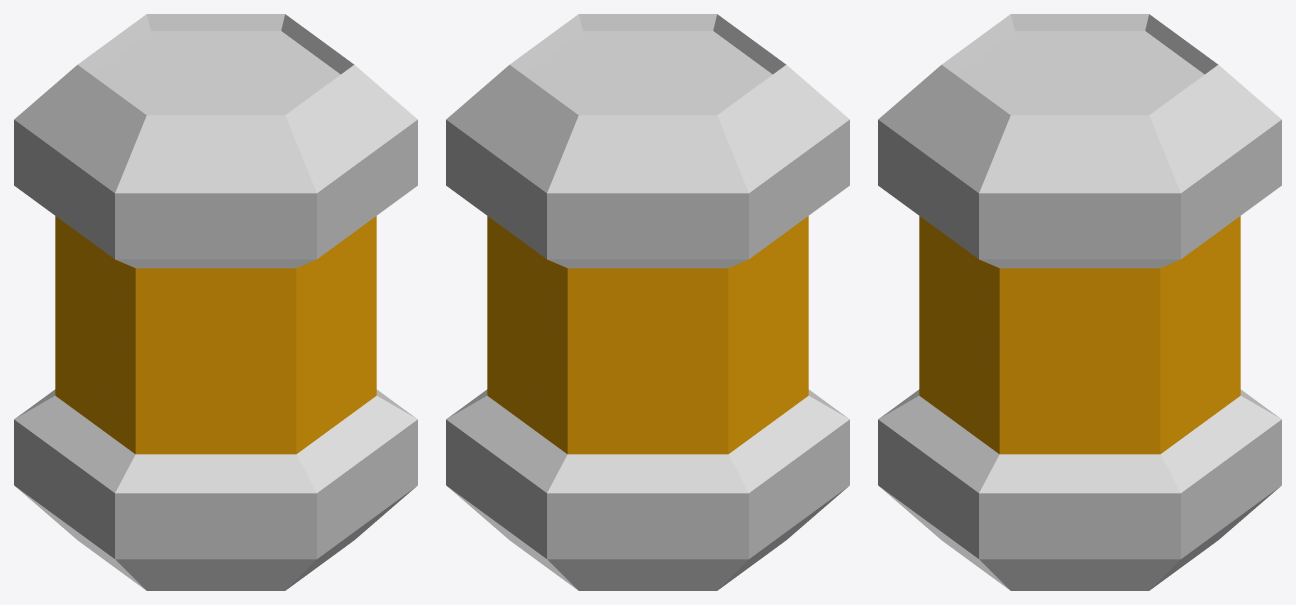
The model's file is Nade.fbx.
3 renders of one model, left to right at view 1: azimuth 30°, elevation 25°; view 2: azimuth 150°, elevation 25°; view 3: azimuth 270°, elevation 25°, orthographic.
Visible parts, largest first — view 1: Cylinder; view 2: Cylinder; view 3: Cylinder.
Part boxes in pixels (x1,y1,x2,y2): Cylinder: (14, 14, 417, 590); Cylinder: (446, 14, 849, 590); Cylinder: (878, 14, 1281, 590).
Size of the model in its own units: 173 by 260 by 200.
